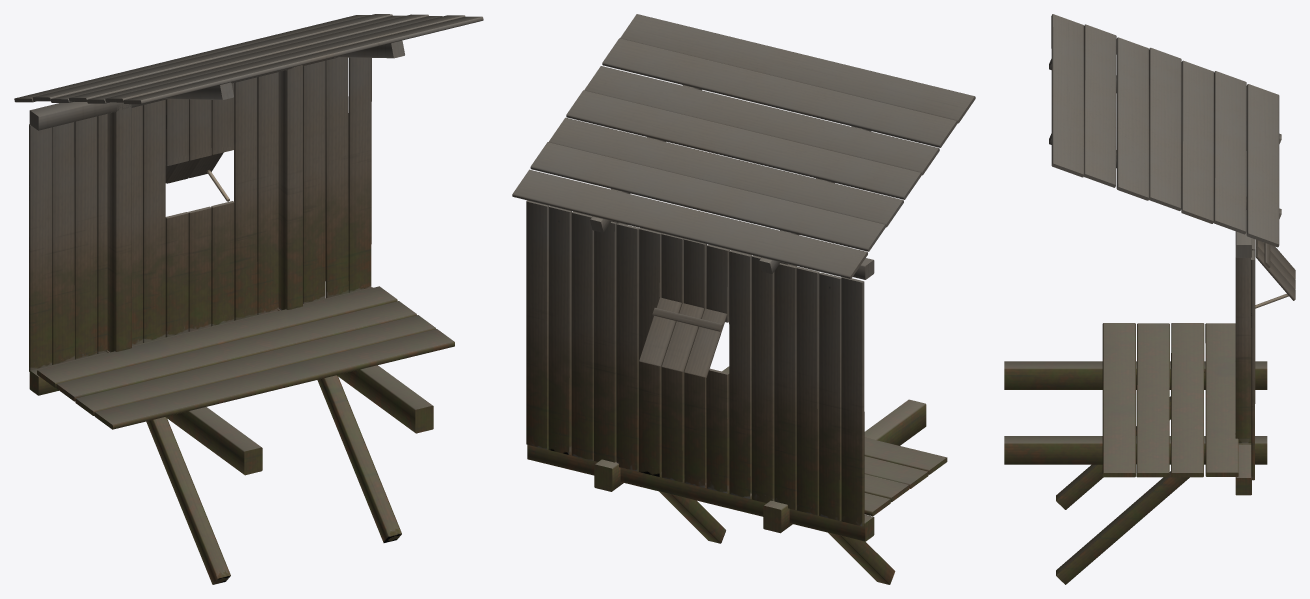
File: SM_Camp_HoardingBay.fbx
3 renders of one model, left to right at view 1: azimuth 30°, elevation 25°; view 2: azimuth 150°, elevation 25°; view 3: azimuth 270°, elevation 25°, orthographic. The views are drawn at different scales.
Parts seen in each view (by area): view 1: SM_Camp_HoardingBay; view 2: SM_Camp_HoardingBay; view 3: SM_Camp_HoardingBay.
Boxes of the visible parts, x1,y1,x2,y2 form: SM_Camp_HoardingBay: (14, 14, 483, 584); SM_Camp_HoardingBay: (512, 14, 975, 584); SM_Camp_HoardingBay: (1004, 14, 1295, 584).
Size of the model in its own units: 300 by 247 by 426.
